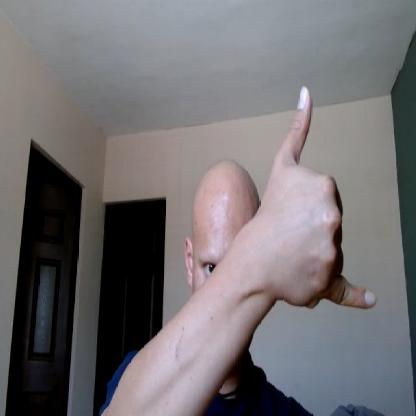Y: (261, 82, 377, 311)
